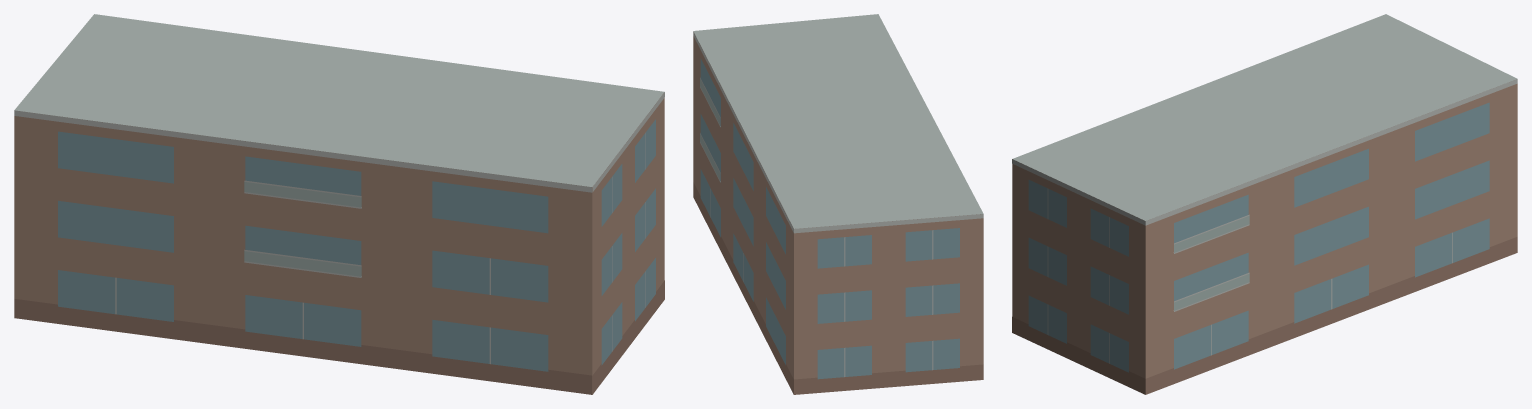
Rendered from survey-upis-32525130.glb.
The picture shows the model from 3 angles, left to right: view 1: azimuth 30°, elevation 25°; view 2: azimuth 150°, elevation 25°; view 3: azimuth 270°, elevation 25°; orthographic projection. The views are drawn at different scales.
Parts seen in each view (by area): view 1: survey-upis-32525130.tmp; view 2: survey-upis-32525130.tmp; view 3: survey-upis-32525130.tmp.
Part boxes in pixels (bbox=[...]): survey-upis-32525130.tmp: bbox=[14, 14, 664, 394]; survey-upis-32525130.tmp: bbox=[693, 14, 983, 394]; survey-upis-32525130.tmp: bbox=[1012, 14, 1517, 394].
Size of the model in its own units: 23.38 by 9.15 by 24.12.
